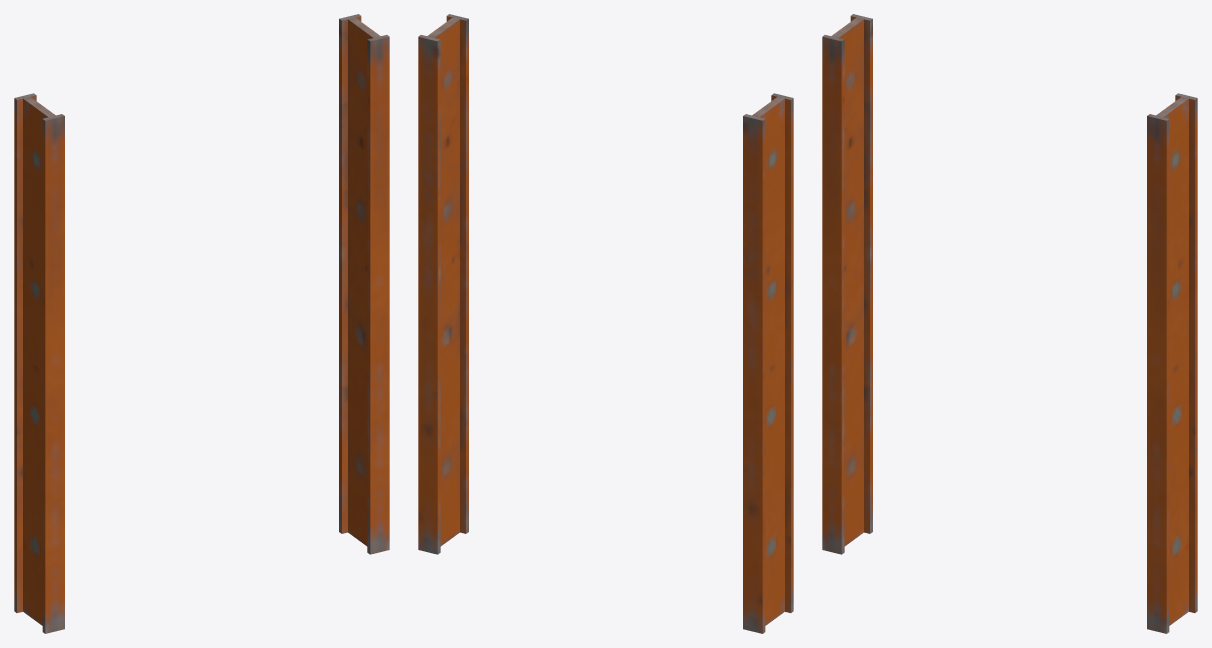
The model's file is LadderEnd.fbx.
3 views of the same model, side by side, from view 1: azimuth 30°, elevation 25°; view 2: azimuth 150°, elevation 25°; view 3: azimuth 330°, elevation 25° (orthographic).
Parts seen in each view (by area): view 1: Ladder_End_LOD0; view 2: Ladder_End_LOD0; view 3: Ladder_End_LOD0.
Boxes of the visible parts, left/top/right/bottom form: Ladder_End_LOD0: left=14, top=14, right=389, bottom=633; Ladder_End_LOD0: left=418, top=14, right=793, bottom=633; Ladder_End_LOD0: left=822, top=14, right=1197, bottom=633.
Size of what is drawn, in the model's own units: 0.7025 by 1 by 0.1097.
